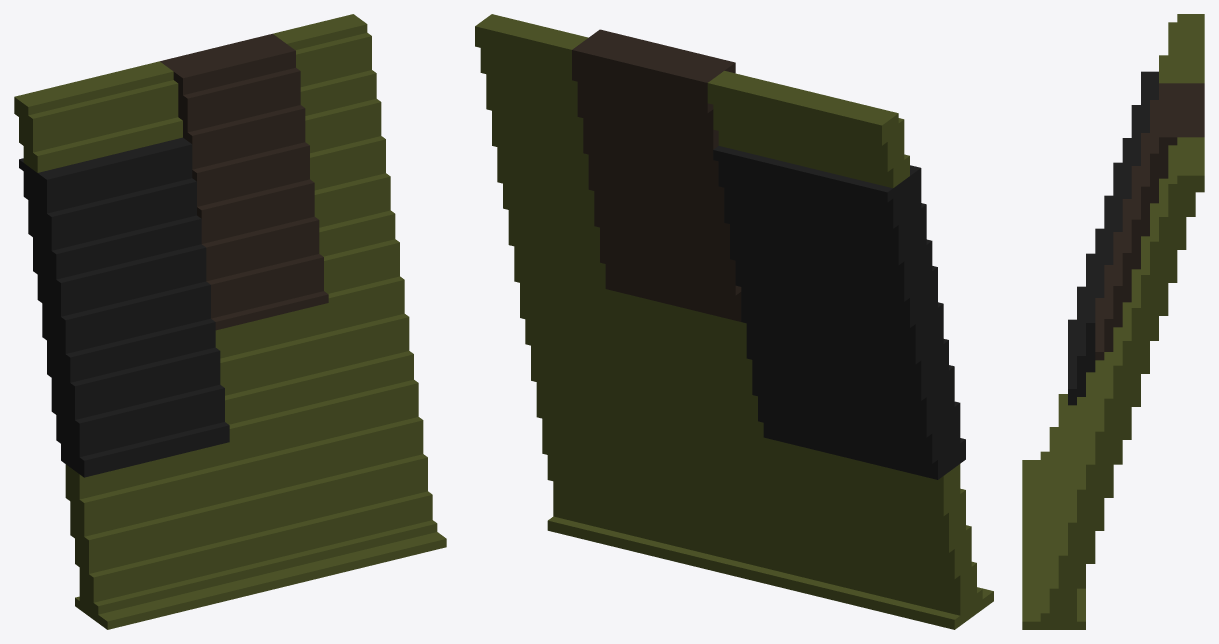
File: crashed_military_helicopter_cabin_door.glb
The picture shows the model from 3 angles, left to right: view 1: azimuth 30°, elevation 25°; view 2: azimuth 150°, elevation 25°; view 3: azimuth 270°, elevation 25°; orthographic projection. The views are drawn at different scales.
Parts seen in each view (by area): view 1: body:compound; view 2: body:compound; view 3: body:compound.
Part boxes in pixels (x1,y1,x2,y2): body:compound: (14,14,446,629); body:compound: (475,14,993,629); body:compound: (1022,14,1204,629).
Bounding box in the file's own units: 1.31 × 1.72 × 0.625.
